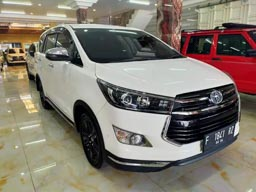plat: (205, 125, 234, 153)
